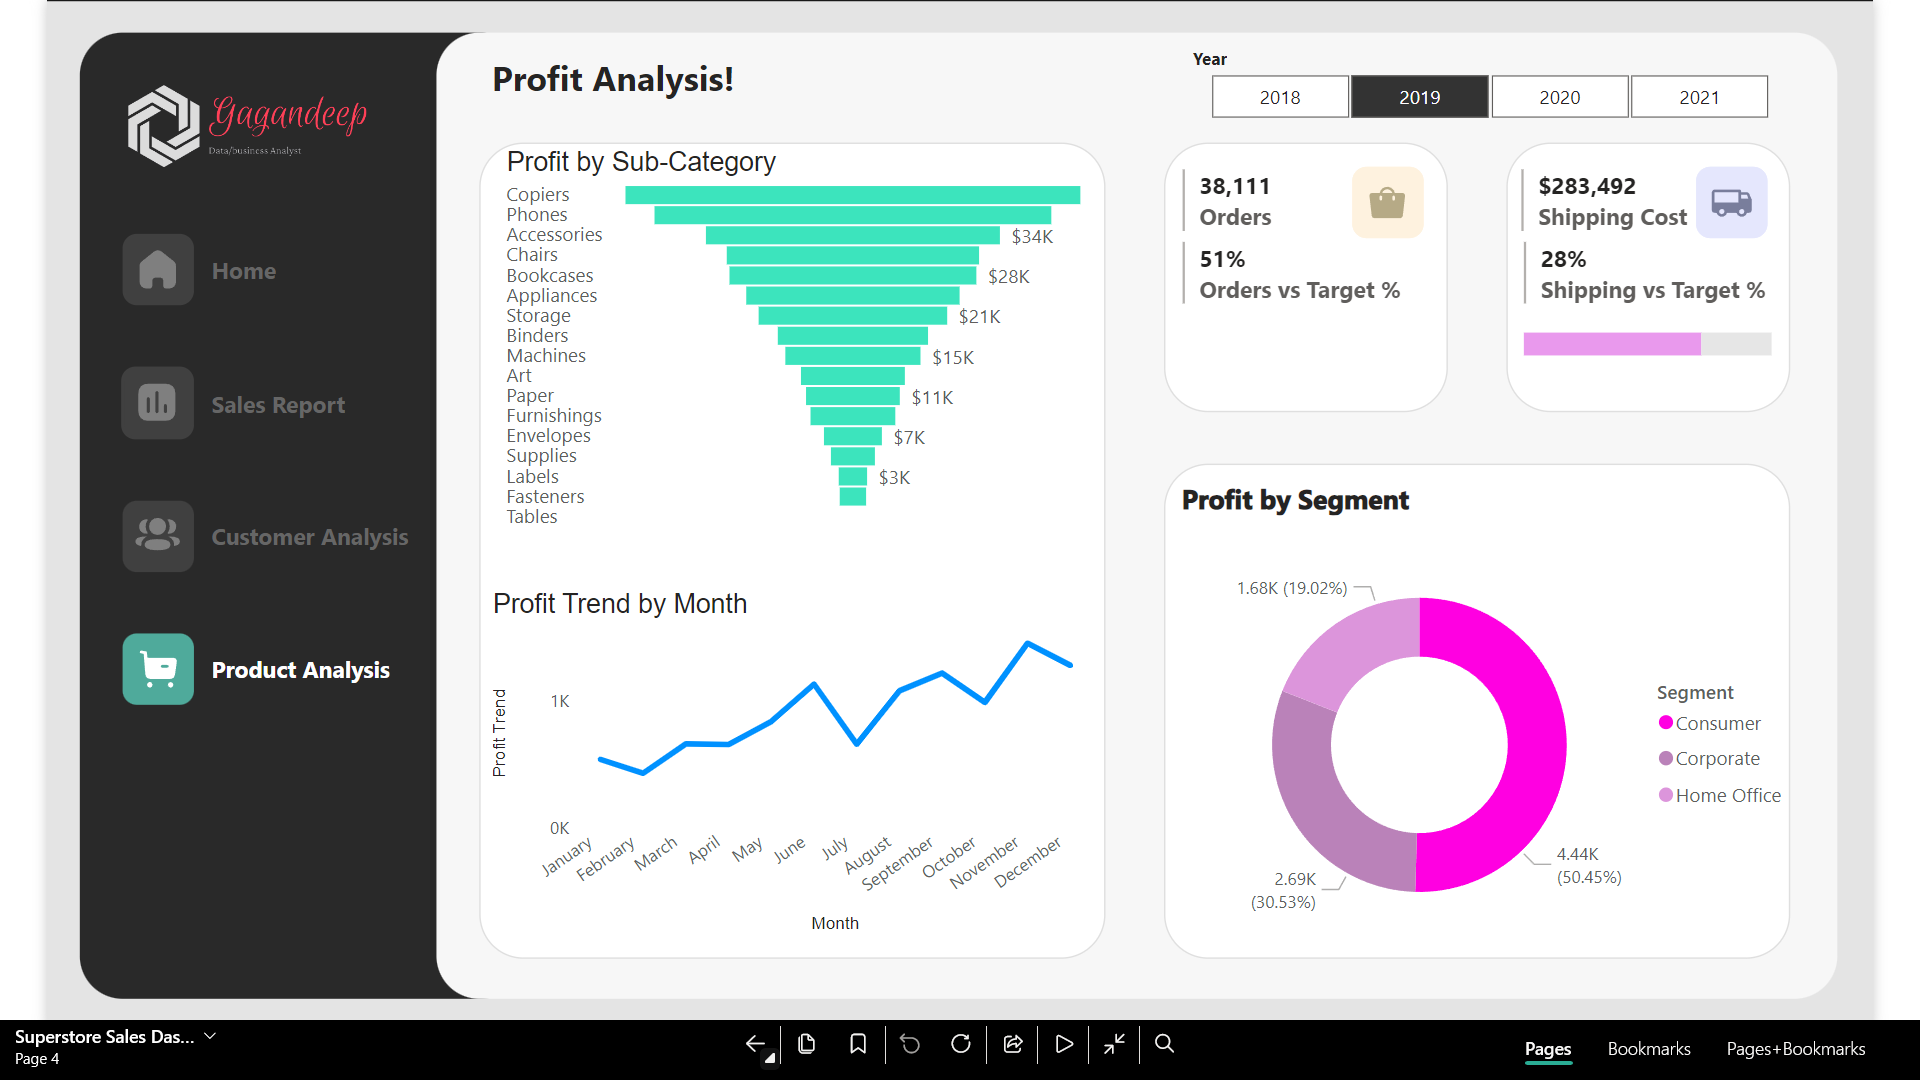

What the dashboard file says about the page in this screenshot:
{"tool":"powerbi","page":{"name":"Page 4","canvas":[1280,720],"ordinal":3},"visuals":[{"type":"textbox","box":[307,33.3,499.5,69.5],"z":0},{"type":"actionButton","box":[111.5,168,99.9,40.5],"z":1000},{"type":"actionButton","box":[111.5,262.1,149.1,40.5],"z":2000},{"type":"actionButton","box":[111.5,354.8,149.1,40.5],"z":3000},{"type":"actionButton","box":[111.5,447.4,149.1,40.5],"z":4000},{"type":"donutChart","title":"Profit by Segment","fields":{"Y":["Count(superstore.Profit)"],"Category":["superstore.Segment"]},"box":[789.7,335.9,440.1,346.9],"z":5000},{"type":"funnel","title":"Profit by Sub-Category","fields":{"Category":["superstore.Sub-Category","superstore.Category"],"Y":["Sum(superstore.Profit)"]},"box":[317.2,103.7,417.3,271.4],"z":6000},{"type":"lineChart","fields":{"Category":["superstore.Order Date.Variation.Date Hierarchy.Month"],"Y":["CountNonNull(superstore.Profit)"]},"box":[307.5,412.5,426.9,246],"z":7000},{"type":"image","box":[0,4.8,281,141.1],"z":8000},{"type":"slicer","fields":{"Values":["superstore.Year"]},"box":[789.9,27.7,440.2,61.5],"z":9000},{"type":"multiRowCard","fields":{"Values":["Sum(superstore.Quantity)"]},"box":[791.1,113.8,164.5,54.8],"z":10000},{"type":"multiRowCard","fields":{"Values":["superstore.Orders vs Target %"]},"box":[791.1,164.5,164.5,57.6],"z":11000},{"type":"multiRowCard","fields":{"Values":["Sum(superstore.Shipping Cost)"]},"box":[1028.3,113.8,185.1,64.4],"z":13000},{"type":"multiRowCard","fields":{"Values":["superstore.Shipping vs Target %"]},"box":[1029.7,164.5,185.1,57.6],"z":14000},{"type":"hundredPercentStackedBarChart","fields":{"Y":["superstore.Shipping vs Target","Sum(superstore.Shipping Cost)"]},"box":[1029.7,198.8,183.7,78.1],"z":15000}]}

Visuals, with their boxes on the page's 1280x720 design canvas (x1, y1, x2, y2). These are canvas units, not pixel positions in the 1920x1080 screenshot, which may show the page scaled, cropped or inside an application window:
textbox: region(307, 33, 806, 103)
actionButton: region(112, 168, 211, 208)
actionButton: region(112, 262, 261, 303)
actionButton: region(112, 355, 261, 395)
actionButton: region(112, 447, 261, 488)
"Profit by Segment" donutChart: region(790, 336, 1230, 683)
"Profit by Sub-Category" funnel: region(317, 104, 734, 375)
lineChart - superstore.Order Date.Variation.Date Hierarchy.Month x CountNonNull(superstore.Profit): region(308, 412, 734, 658)
image: region(0, 5, 281, 146)
slicer - superstore.Year: region(790, 28, 1230, 89)
multiRowCard - Sum(superstore.Quantity): region(791, 114, 956, 169)
multiRowCard - superstore.Orders vs Target %: region(791, 164, 956, 222)
multiRowCard - Sum(superstore.Shipping Cost): region(1028, 114, 1213, 178)
multiRowCard - superstore.Shipping vs Target %: region(1030, 164, 1215, 222)
hundredPercentStackedBarChart - superstore.Shipping vs Target x Sum(superstore.Shipping Cost): region(1030, 199, 1213, 277)
